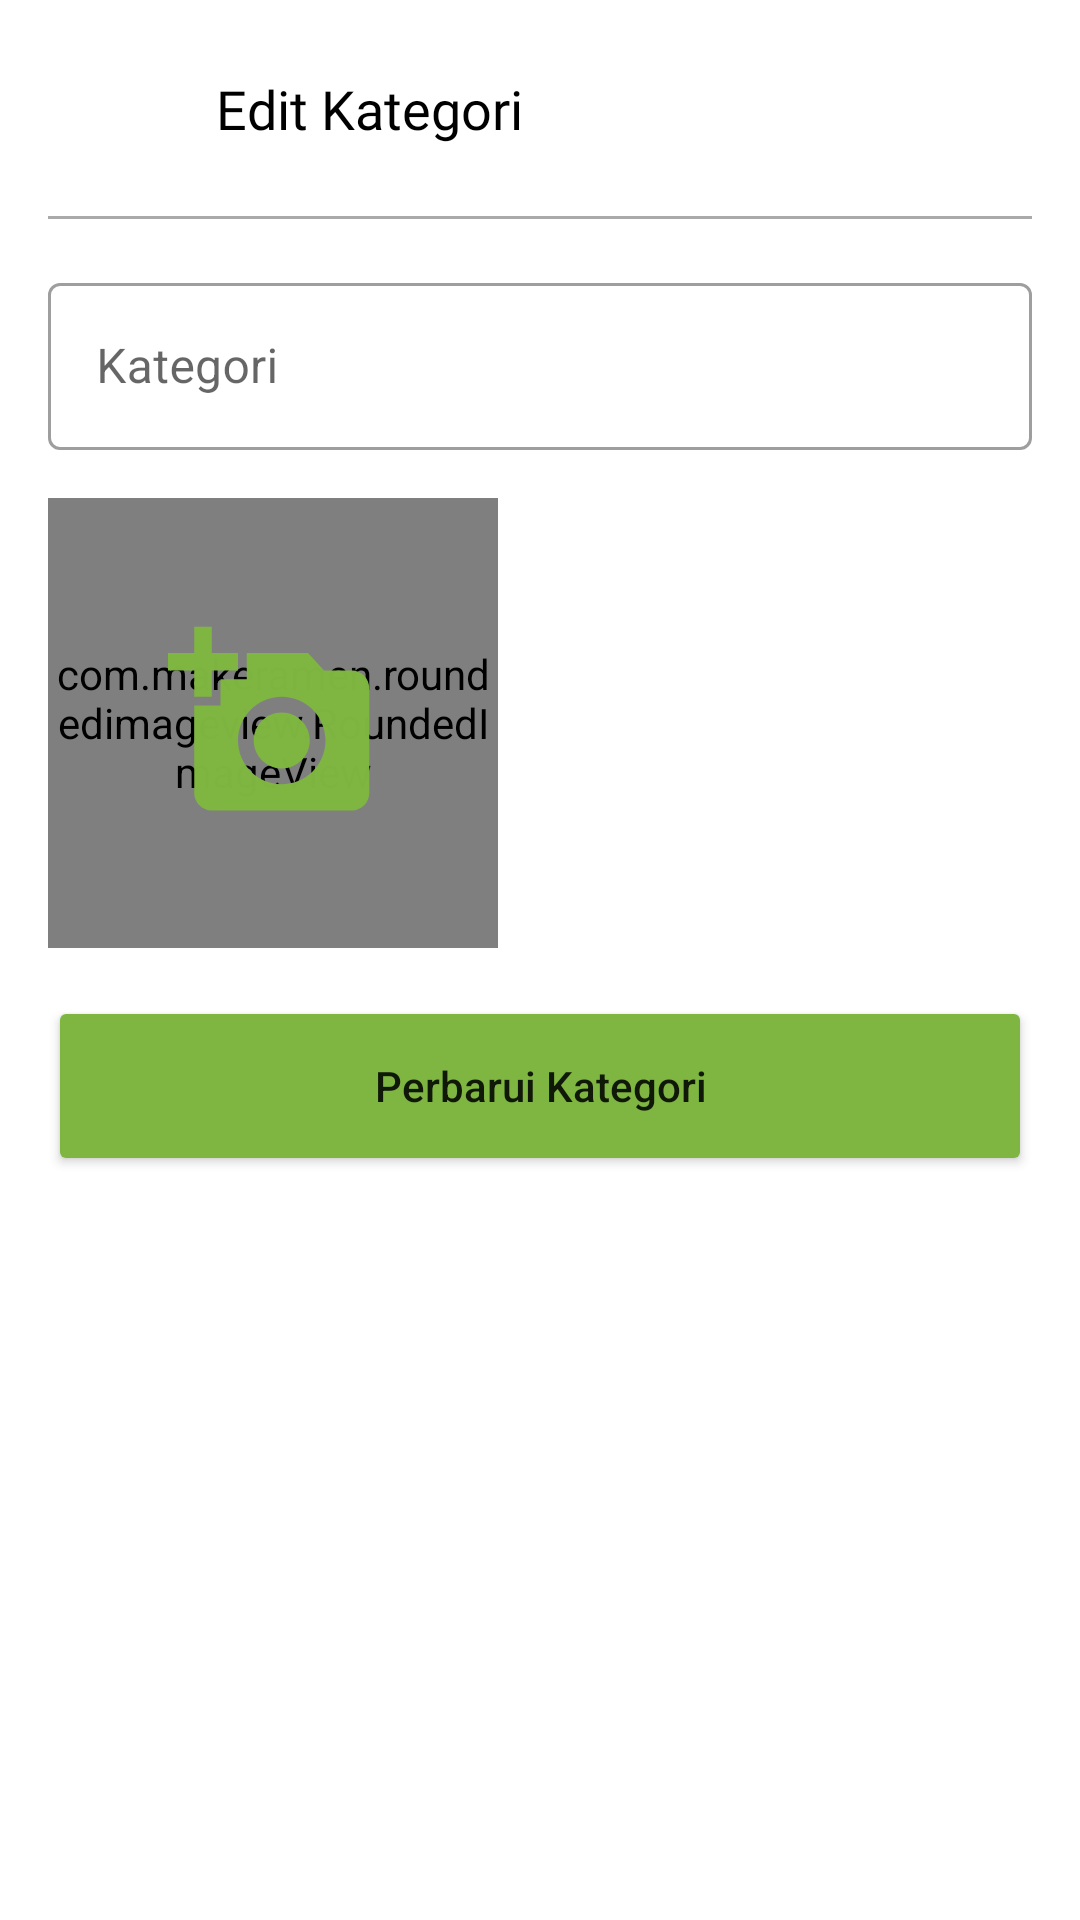

Icon bounding boxes for this 1080x1920 phone screenshot, format (x1, y1, x2, y2):
add photo: (168, 627, 378, 811)
